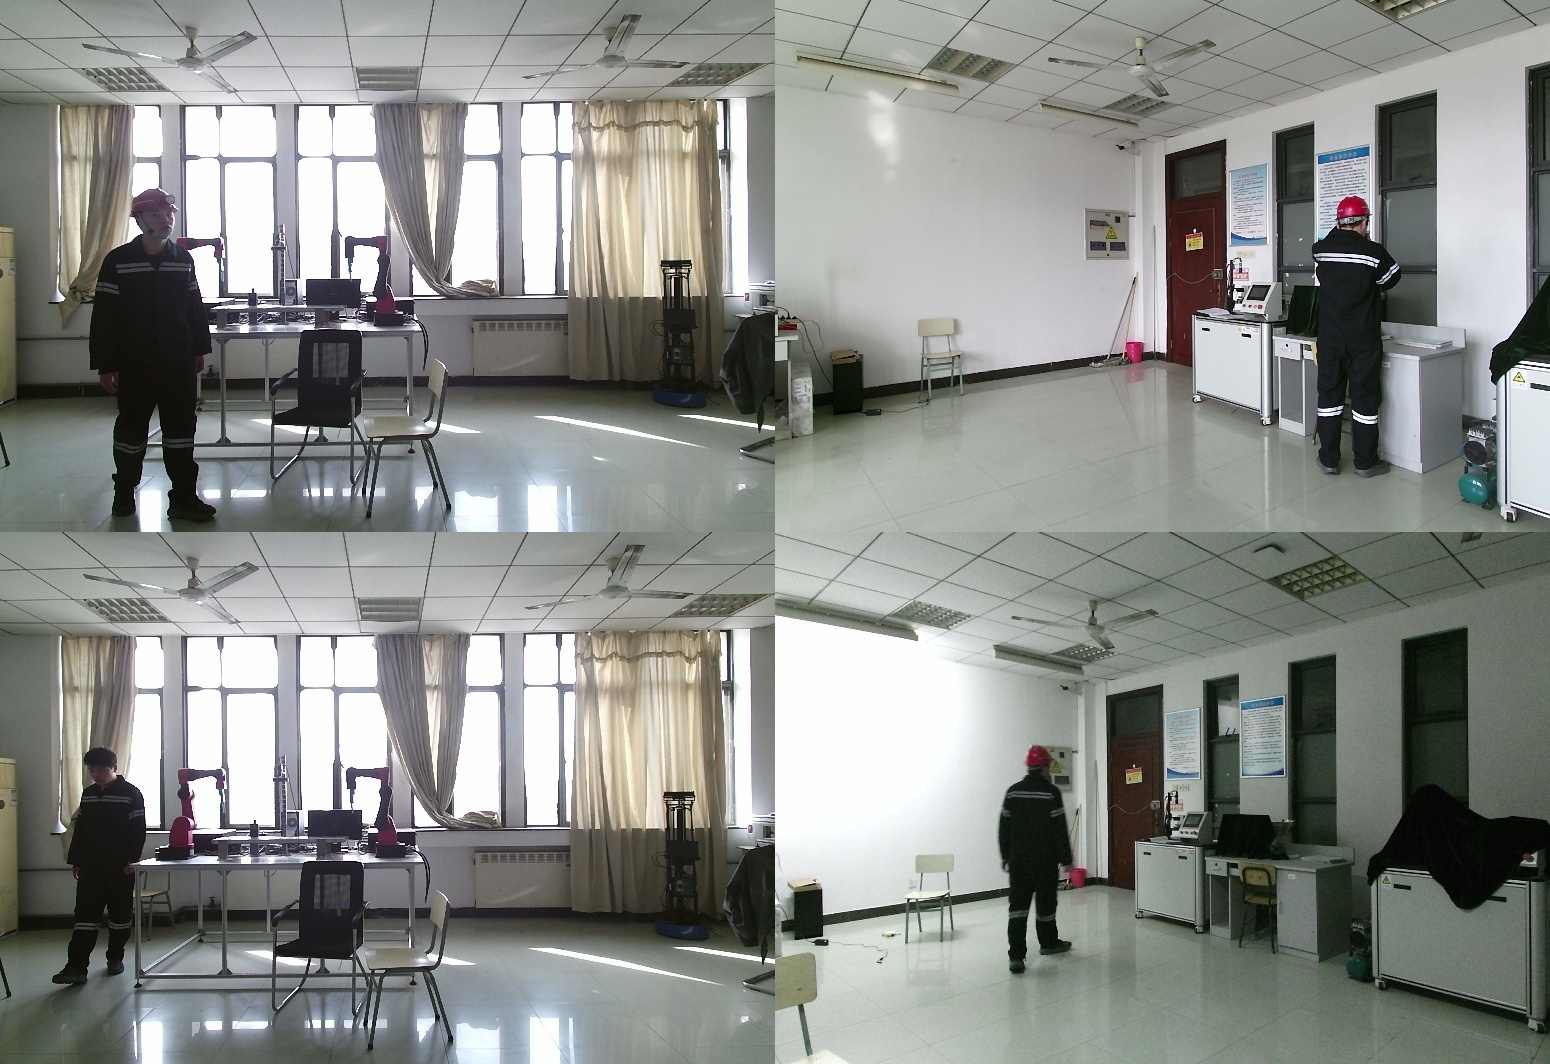person: (84, 187, 217, 532), (1307, 195, 1428, 478), (50, 749, 146, 983), (987, 747, 1070, 976)
